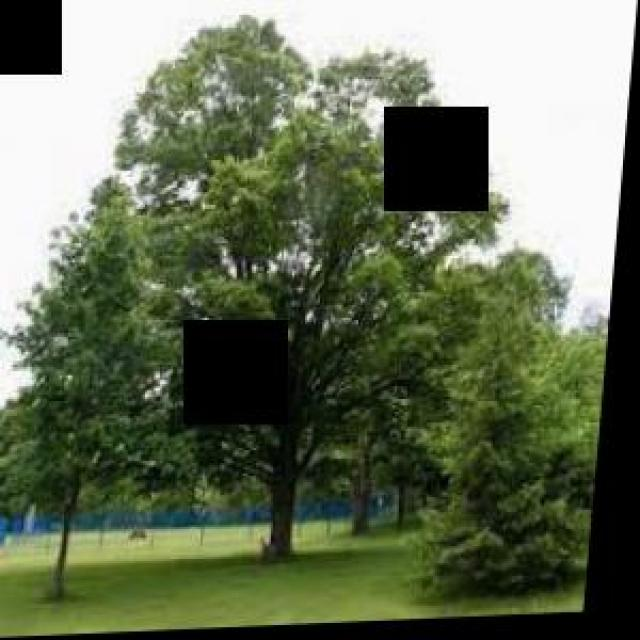tree: (1, 1, 581, 577)
